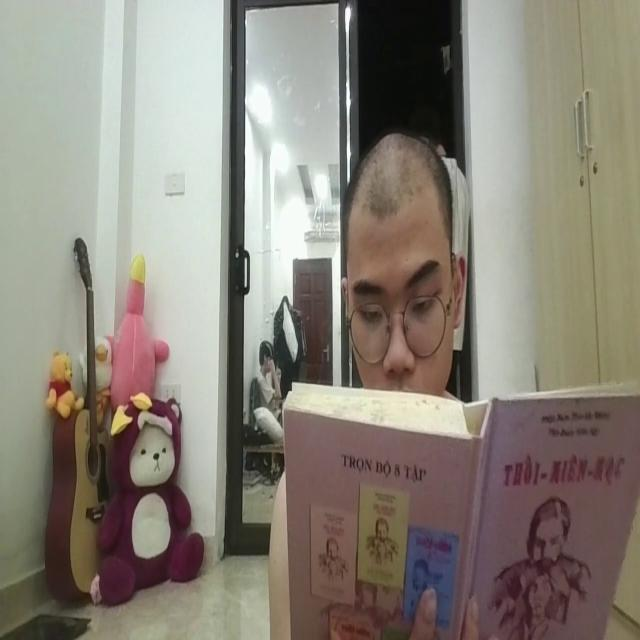book: (275, 356, 640, 639)
extra_person: (427, 127, 475, 350), (254, 322, 286, 453)
student: (337, 127, 475, 405)
